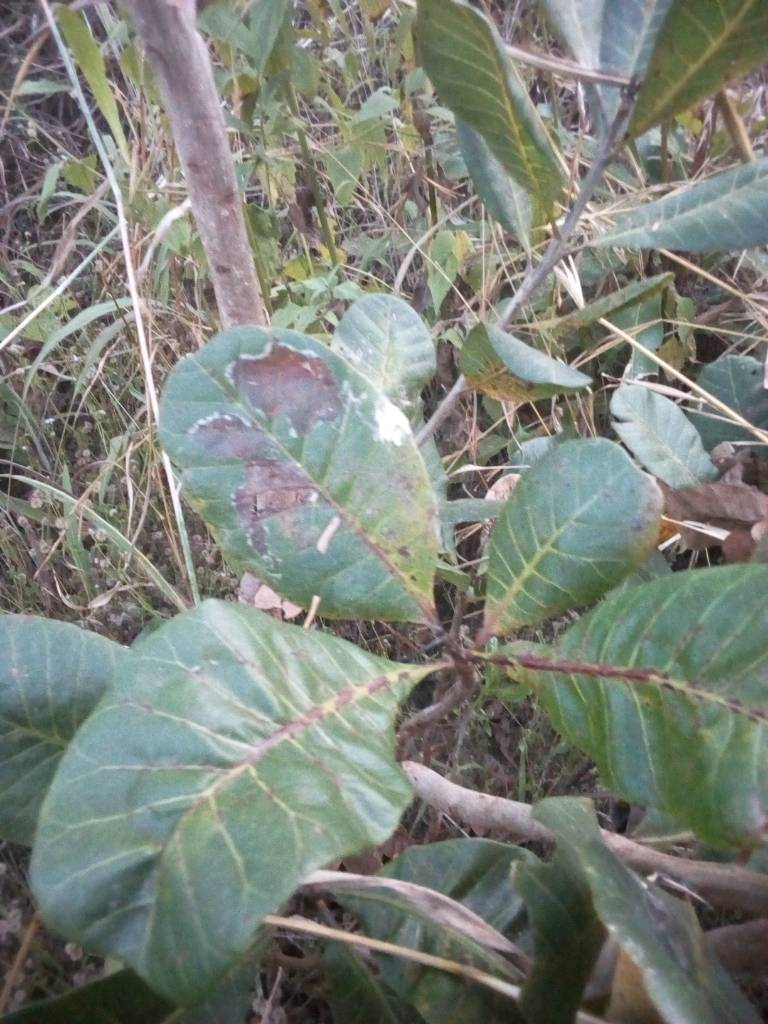Anthracnose: (150, 321, 440, 632)
